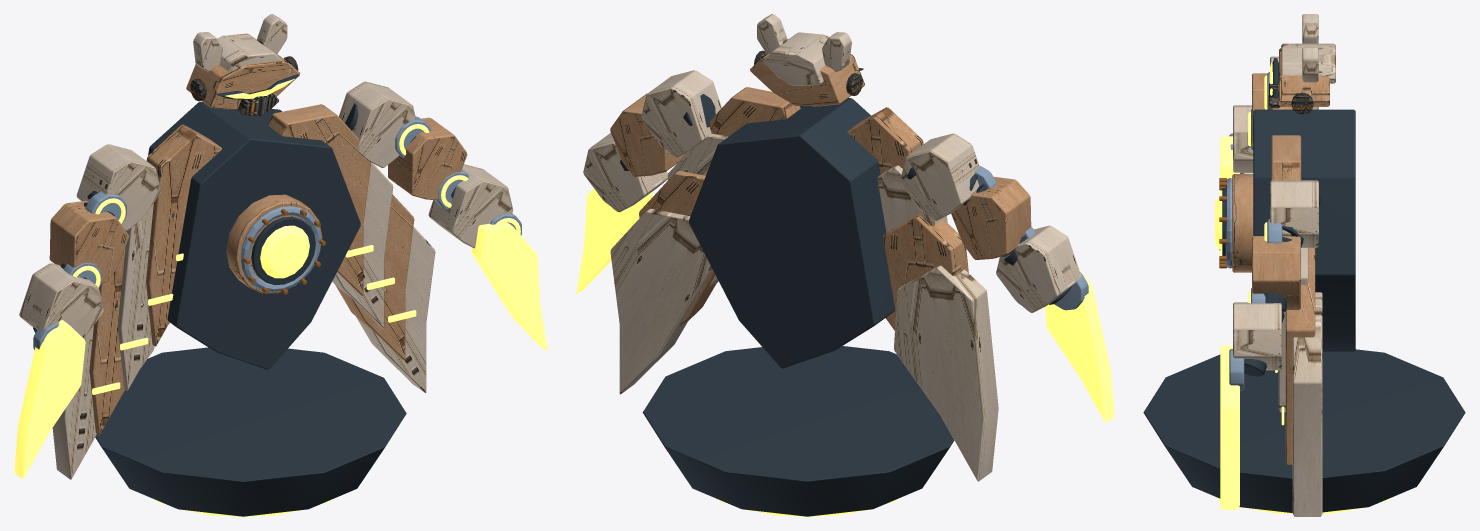
The model's file is sand_cipher.glb.
The picture shows the model from 3 angles, left to right: view 1: azimuth 30°, elevation 25°; view 2: azimuth 150°, elevation 25°; view 3: azimuth 270°, elevation 25°; orthographic projection. The views are drawn at different scales.
Parts seen in each view (by area): view 1: Antigravity plinth, Machined reactor collar, Navy crown, Overlapping segment carapace, Overlapping segment carapace.003, Joint power collar, Joint power collar.003, Overlapping segment carapace.001, Hover thrust ring, Overlapping segment carapace.004, Reactor retainer, Segment rotating hub (+2 smaller); view 2: Antigravity plinth, Navy crown, Machined reactor collar, Overlapping segment carapace, Overlapping segment carapace.003, Overlapping segment carapace.001, Joint power collar, Joint power collar.003, Overlapping segment carapace.004, Segment rotating hub; view 3: Antigravity plinth, Navy crown, Machined reactor collar, Overlapping segment carapace.003, Joint power collar.003, Overlapping segment carapace.004, Overlapping segment carapace, Segment rotating hub.003, Joint power collar, Articulated hydraulic link.003, Hover thrust ring, Reactor retainer (+2 smaller).
Part boxes in pixels (<box>): Antigravity plinth: <box>95,74,406,516</box>; Machined reactor collar: <box>89,53,414,435</box>; Navy crown: <box>52,14,435,479</box>; Overlapping segment carapace: <box>19,144,161,338</box>; Overlapping segment carapace.003: <box>339,81,512,248</box>; Joint power collar: <box>14,198,125,478</box>; Joint power collar.003: <box>399,124,547,350</box>; Overlapping segment carapace.001: <box>49,200,128,283</box>; Hover thrust ring: <box>92,78,416,516</box>; Overlapping segment carapace.004: <box>388,117,467,200</box>; Reactor retainer: <box>240,206,320,291</box>; Segment rotating hub: <box>33,191,126,349</box>; Antigravity plinth: <box>642,68,954,516</box>; Navy crown: <box>610,14,998,481</box>; Machined reactor collar: <box>639,39,968,330</box>; Overlapping segment carapace: <box>900,133,1081,312</box>; Overlapping segment carapace.003: <box>583,70,721,212</box>; Overlapping segment carapace.001: <box>951,177,1031,259</box>; Joint power collar: <box>1044,270,1114,422</box>; Joint power collar.003: <box>576,188,652,293</box>; Overlapping segment carapace.004: <box>610,93,686,176</box>; Segment rotating hub: <box>975,165,1088,310</box>; Antigravity plinth: <box>1143,58,1465,512</box>; Navy crown: <box>1278,14,1335,516</box>; Machined reactor collar: <box>1232,48,1329,464</box>; Overlapping segment carapace.003: <box>1233,180,1318,370</box>; Joint power collar.003: <box>1220,222,1267,509</box>; Overlapping segment carapace.004: <box>1252,236,1300,309</box>; Overlapping segment carapace: <box>1233,56,1318,173</box>; Segment rotating hub.003: <box>1229,219,1282,390</box>; Joint power collar: <box>1220,75,1267,255</box>; Articulated hydraulic link.003: <box>1244,194,1320,376</box>; Hover thrust ring: <box>1215,62,1393,513</box>; Reactor retainer: <box>1225,178,1232,268</box>.
Size of the model in its own units: 3.62 by 2.92 by 1.95.
7 materials, 3 textured.
